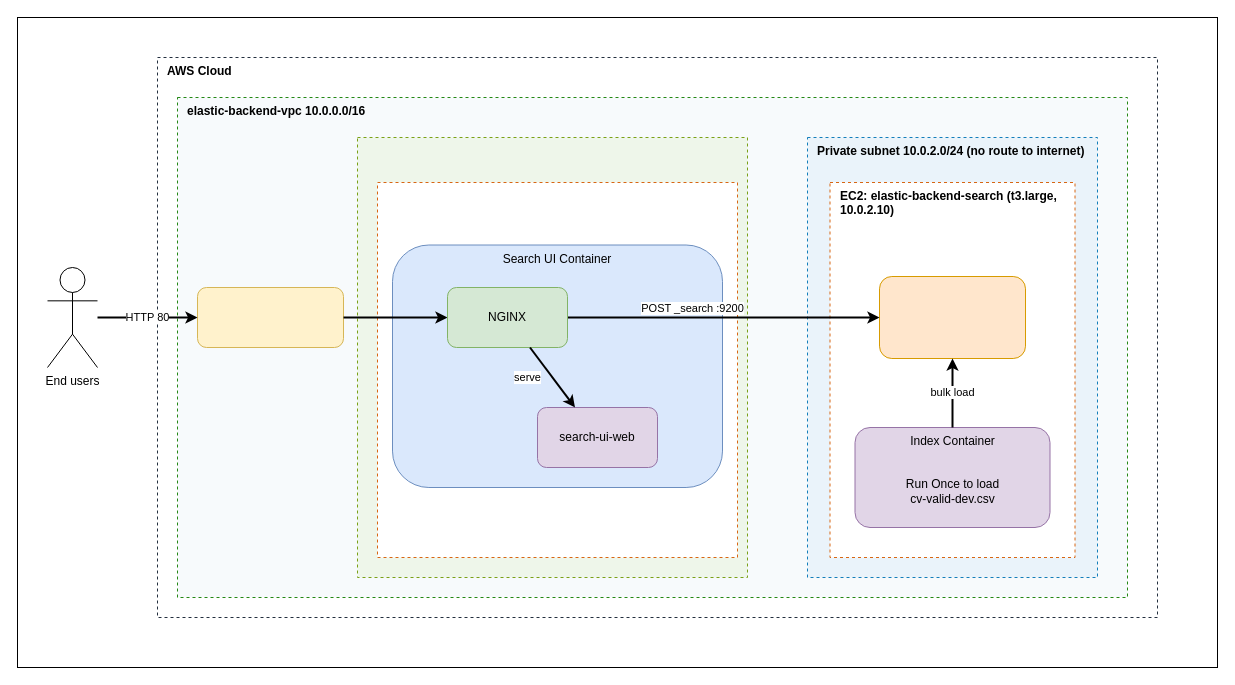
Image size: 1235x685. Some labels were removed from this diagram. The box of each missing label's shape, as (x1, y1, x2, y2) in pixels:
EC2: elastic-backend-web (t3.small, Elastic IP): (376, 182, 738, 558)
Elastic Search Container: (878, 276, 1026, 358)
Internet Gateway elastic-backend-igw: (196, 286, 344, 348)
Public subnet 10.0.1.0/24: (356, 136, 748, 578)
